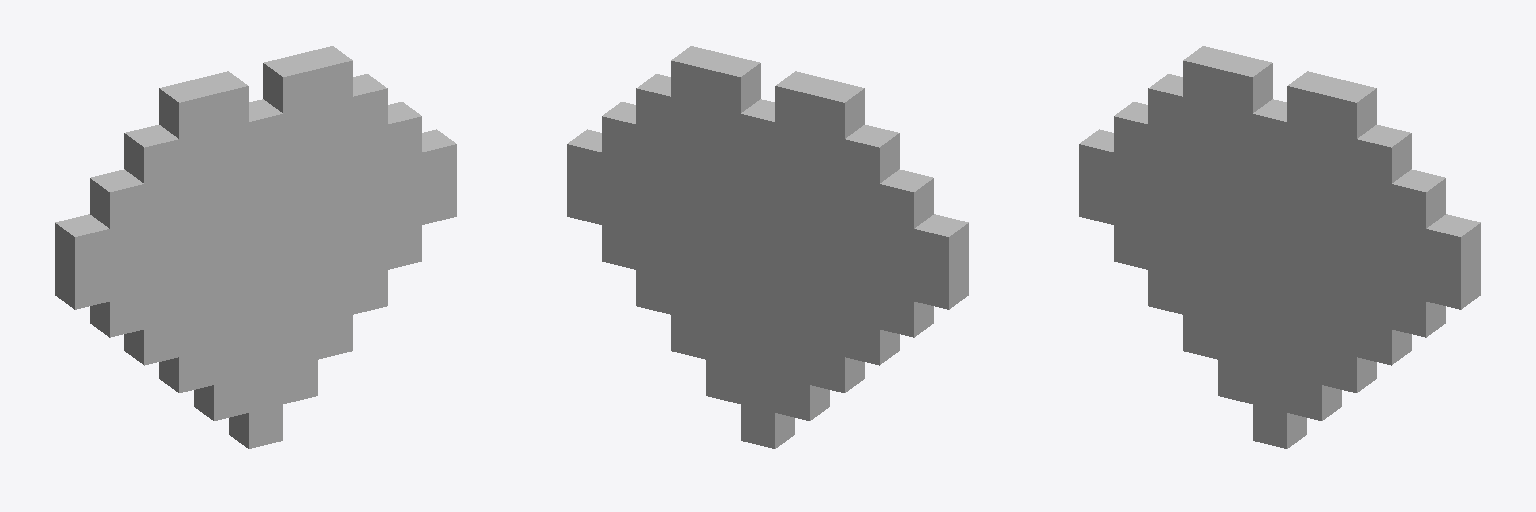
The model's file is playerHpOutline.obj.
3 renders of one model, left to right at view 1: azimuth 30°, elevation 25°; view 2: azimuth 150°, elevation 25°; view 3: azimuth 330°, elevation 25°, orthographic.
Parts seen in each view (by area): view 1: Untitled.001; view 2: Untitled.001; view 3: Untitled.001.
Boxes of the visible parts, x1,y1,x2,y2 form: Untitled.001: [55, 46, 456, 448]; Untitled.001: [567, 46, 968, 448]; Untitled.001: [1079, 46, 1480, 448].
Size of the model in its own units: 1.1 by 1 by 0.1.